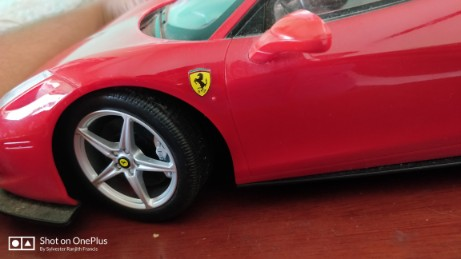unaligned_wheel: (58, 85, 227, 229)
